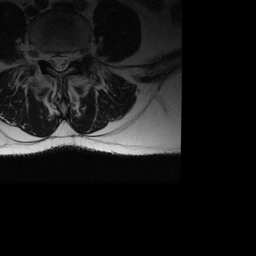CCS_normal: (55, 43, 63, 77)
LFS_normal: (71, 39, 80, 68)
LLS_normal: (63, 41, 71, 74)
RFS_normal: (38, 39, 48, 67)
RLS_normal: (48, 41, 55, 76)
